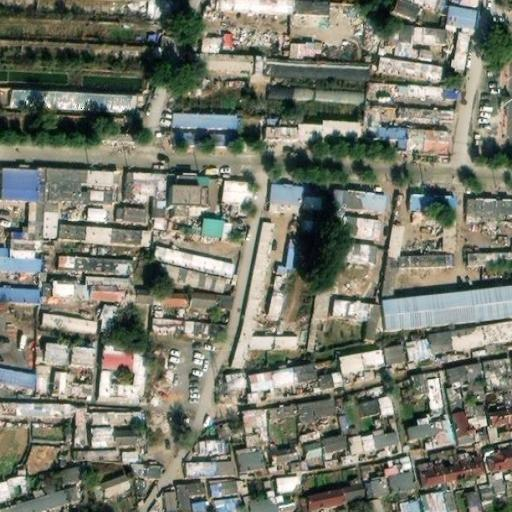building: (230, 222, 299, 368), (382, 286, 512, 329), (40, 169, 118, 240), (124, 172, 212, 234), (327, 189, 384, 265), (0, 82, 141, 112), (387, 212, 454, 272), (148, 244, 234, 289), (407, 327, 488, 373), (0, 471, 84, 512), (97, 340, 145, 404), (382, 23, 449, 63), (273, 359, 343, 397), (277, 219, 320, 276), (444, 361, 489, 414), (48, 273, 130, 302), (238, 475, 298, 512), (57, 222, 149, 246), (404, 415, 451, 460), (185, 292, 229, 340), (406, 369, 444, 420), (333, 298, 377, 342), (338, 351, 389, 386), (166, 215, 240, 239), (452, 408, 491, 452), (153, 290, 188, 338), (367, 461, 412, 498), (268, 59, 369, 75), (57, 255, 131, 276), (272, 182, 324, 211), (380, 55, 438, 81), (262, 441, 303, 475), (297, 118, 360, 140), (416, 454, 455, 489), (464, 191, 512, 219), (355, 387, 393, 421), (395, 106, 456, 127), (42, 313, 97, 336), (195, 54, 254, 75), (439, 0, 478, 30), (243, 370, 278, 403), (450, 449, 483, 484), (220, 179, 248, 220), (321, 433, 352, 469), (173, 479, 206, 512), (299, 398, 335, 428), (53, 372, 91, 400), (68, 404, 92, 448), (446, 25, 470, 69), (403, 127, 448, 150), (24, 437, 56, 469), (240, 409, 268, 445), (173, 113, 235, 129), (359, 127, 403, 149), (477, 475, 507, 507), (0, 404, 68, 418), (211, 476, 250, 500), (235, 447, 266, 477), (173, 129, 235, 144), (384, 346, 413, 378), (395, 86, 453, 102), (464, 244, 512, 263), (348, 432, 378, 462), (373, 428, 402, 458), (412, 195, 455, 214), (68, 447, 119, 463), (184, 461, 235, 477), (272, 272, 289, 320), (0, 366, 37, 388), (263, 397, 298, 420), (306, 489, 346, 509), (100, 474, 134, 497), (0, 475, 28, 502), (234, 118, 263, 144), (112, 423, 143, 447), (224, 375, 248, 406), (0, 285, 39, 304), (298, 431, 324, 459), (312, 285, 331, 320), (287, 42, 323, 60), (263, 118, 297, 137), (268, 86, 314, 100), (91, 412, 143, 424), (197, 437, 225, 458), (367, 106, 395, 127), (314, 87, 356, 101), (101, 308, 118, 341), (343, 484, 372, 503), (45, 345, 70, 367), (69, 346, 92, 368), (114, 211, 145, 227), (92, 424, 113, 447), (422, 493, 446, 512), (85, 205, 107, 225), (214, 496, 241, 512), (135, 289, 156, 306), (201, 38, 222, 55), (162, 491, 178, 512), (136, 465, 160, 478), (468, 490, 482, 512), (397, 499, 420, 512), (118, 447, 137, 462)
